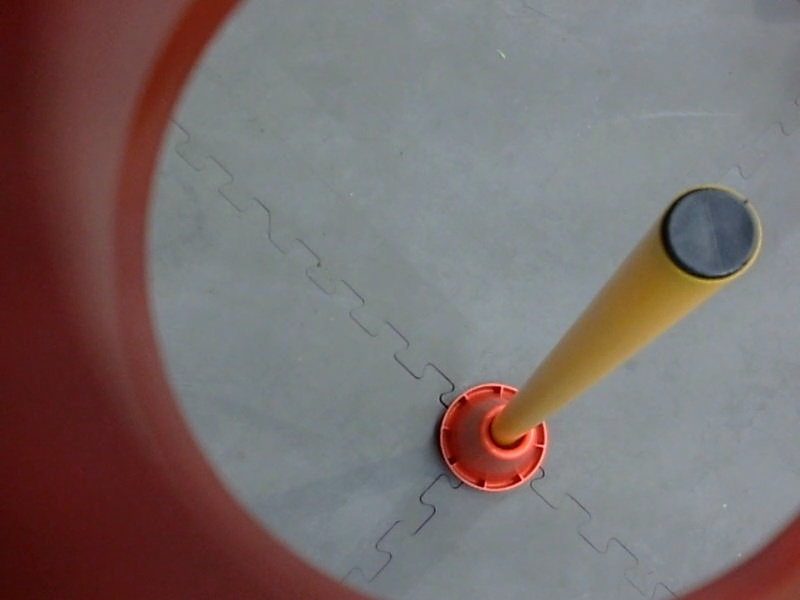tip: (652, 177, 769, 296)
